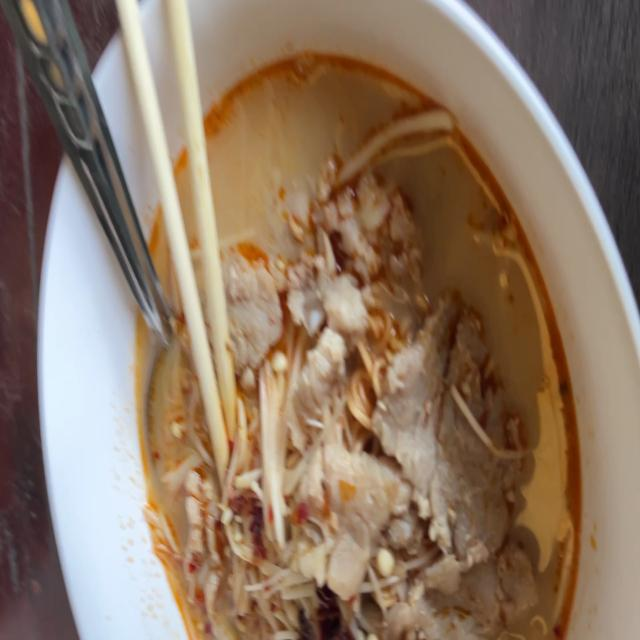noodle: (131, 49, 592, 640)
